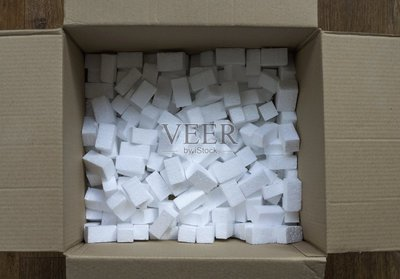5/可回收垃圾/泡沫: (1, 1, 400, 279)
